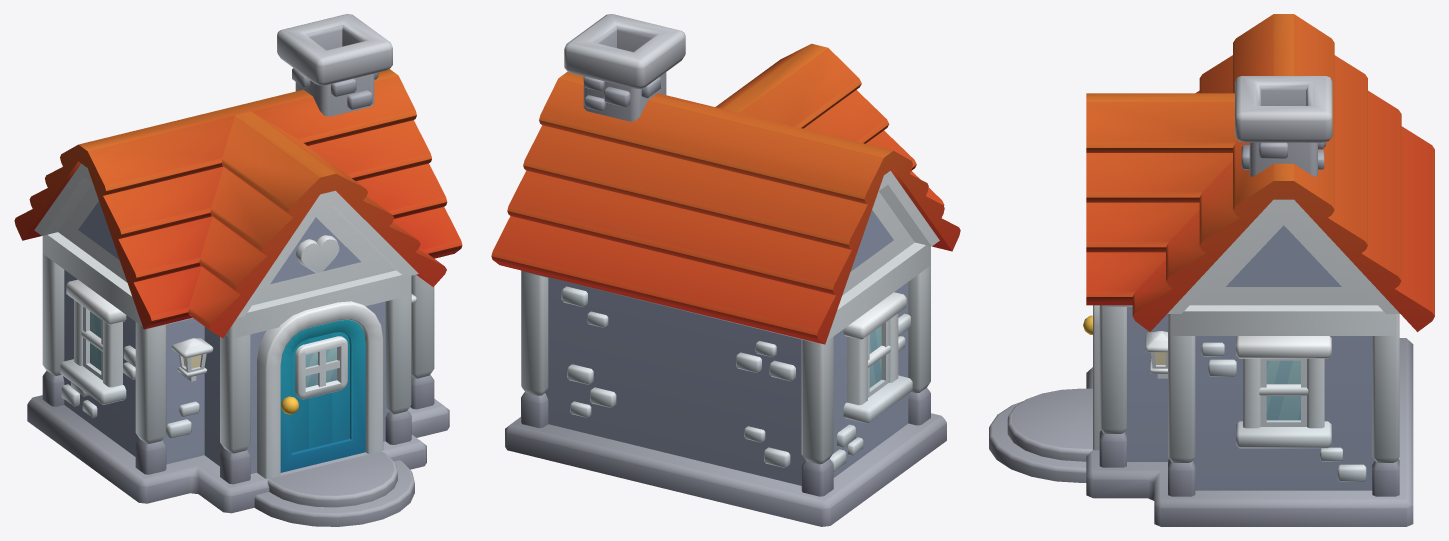
Rendered from house.fbx.
3 views of the same model, side by side, from view 1: azimuth 30°, elevation 25°; view 2: azimuth 150°, elevation 25°; view 3: azimuth 270°, elevation 25° (orthographic). The views are drawn at different scales.
Parts seen in each view (by area): view 1: house, house_door, house_chimney, house_heart; view 2: house, house_chimney; view 3: house, house_chimney.
Part boxes in pixels (box(x1,y1,x2,y2)): house: box(14, 69, 462, 526); house_door: box(280, 320, 365, 472); house_chimney: box(277, 14, 392, 116); house_heart: box(296, 235, 339, 272); house: box(491, 43, 960, 526); house_chimney: box(564, 14, 685, 121); house: box(989, 14, 1434, 526); house_chimney: box(1235, 76, 1332, 176).
Size of the model in its own units: 5.9 by 6.5 by 6.54.
